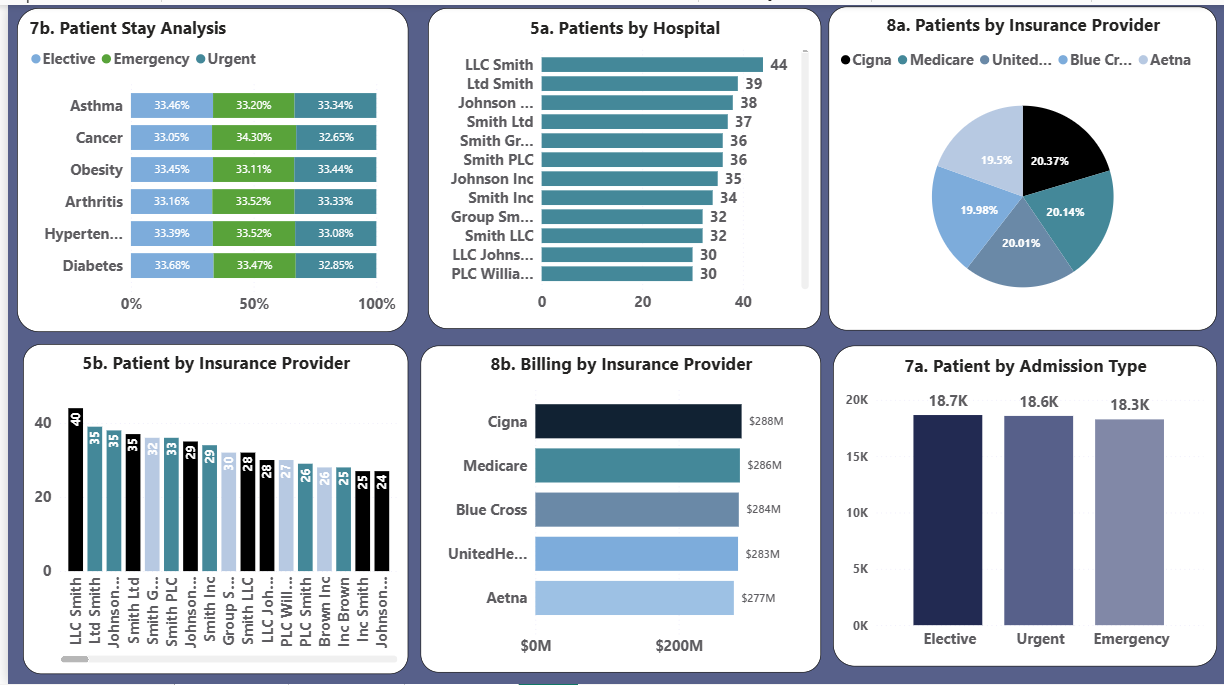

The page's visual inventory and layout, read from the dashboard file:
{"tool":"powerbi","page":{"name":"Page 2","canvas":[1326,739],"ordinal":1},"visuals":[{"type":"clusteredBarChart","title":"5a. Patients  by Hospital","fields":{"Y":["CountNonNull(healthcare_dataset.Name)"],"Category":["Dim_med.Hospital"]},"box":[457.1,3.3,427.7,349.4],"z":0},{"type":"hundredPercentStackedBarChart","title":"7b. Patient Stay Analysis ","fields":{"Category":["Dim_med.Medical Condition"],"Y":["Avg(healthcare_dataset.Length_of_stay)"],"Series":["healthcare_dataset.Admission Type"]},"box":[9.8,3.3,426.1,352.6],"z":1000},{"type":"pieChart","title":"8a. Patients by Insurance Provider","fields":{"Category":["Dim_med.Insurance Provider"],"Y":["CountNonNull(healthcare_dataset.Name)"]},"box":[893,1.6,422.8,352.6],"z":2000},{"type":"clusteredBarChart","title":"8b. Billing by Insurance Provider","fields":{"Category":["Dim_med.Insurance Provider"],"Y":["Sum(healthcare_dataset.Billing Amount)"]},"box":[449,370.6,435.9,355.9],"z":3000},{"type":"columnChart","title":"5b. Patient by Insurance Provider ","fields":{"Y":["CountNonNull(healthcare_dataset.Name)"],"Category":["Dim_med.Hospital"],"Series":["Dim_med.Test Results"]},"box":[16.3,369,419.6,359.2],"z":4000},{"type":"clusteredColumnChart","title":"7a. Patient  by Admission Type","fields":{"Y":["CountNonNull(healthcare_dataset.Name)","select"],"Category":["healthcare_dataset.Admission Type"]},"box":[897.9,370.6,417.9,349.4],"z":5000}]}

Visuals, with their boxes in screenshot pixels (x1, y1, x2, y2), scaled from the page's 1326x739 canvas onto the 1224x685 screenshot:
"5a. Patients  by Hospital" clusteredBarChart: bbox=(422, 3, 817, 327)
"7b. Patient Stay Analysis " hundredPercentStackedBarChart: bbox=(9, 3, 402, 330)
"8a. Patients by Insurance Provider" pieChart: bbox=(824, 1, 1215, 328)
"8b. Billing by Insurance Provider" clusteredBarChart: bbox=(414, 344, 817, 673)
"5b. Patient by Insurance Provider " columnChart: bbox=(15, 342, 402, 675)
"7a. Patient  by Admission Type" clusteredColumnChart: bbox=(829, 344, 1215, 667)
